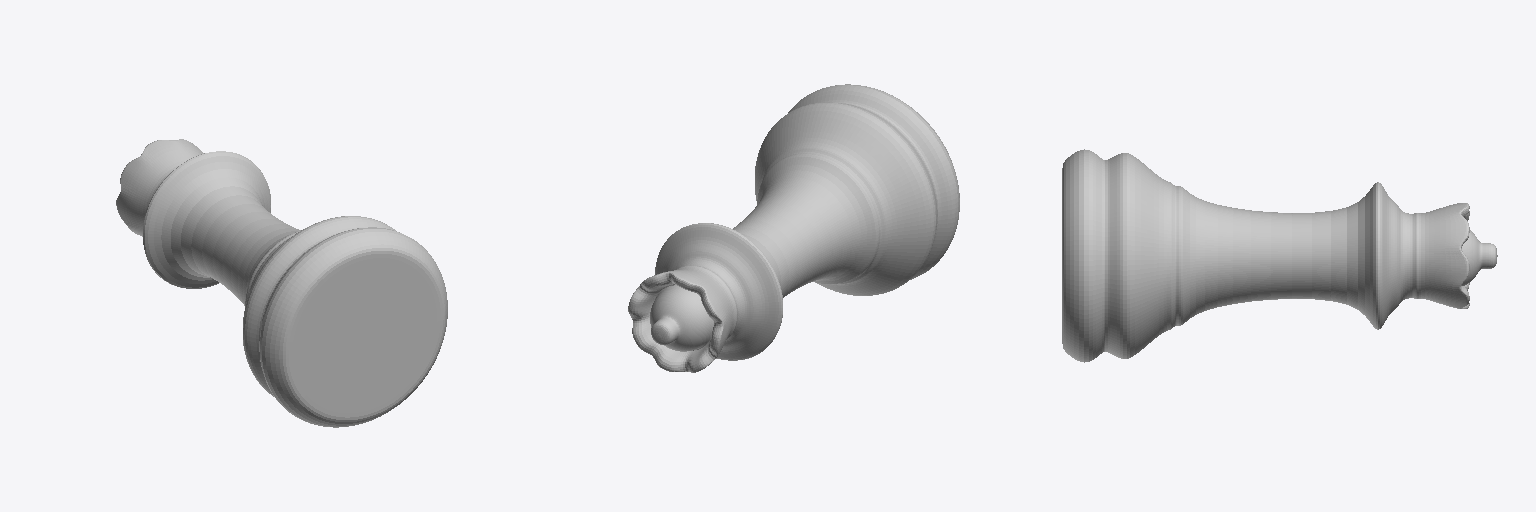
The model's file is queen.obj.
The picture shows the model from 3 angles: view 1: azimuth 30°, elevation 25°; view 2: azimuth 150°, elevation 25°; view 3: azimuth 270°, elevation 25°; orthographic projection.
Parts seen in each view (by area): view 1: Circle.004_Circle.005; view 2: Circle.004_Circle.005; view 3: Circle.004_Circle.005.
Part boxes in pixels (x1,y1,x2,y2): Circle.004_Circle.005: (116, 139, 447, 427); Circle.004_Circle.005: (628, 84, 959, 372); Circle.004_Circle.005: (1062, 149, 1497, 362).
Size of the model in its own units: 0.0298 by 0.0298 by 0.0609.